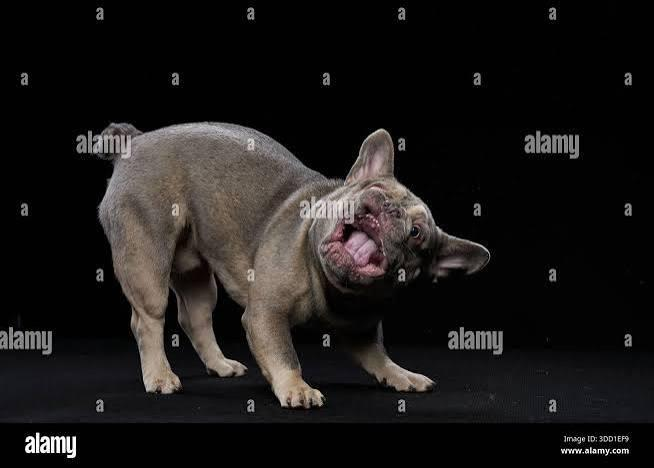adult_dog: (94, 115, 493, 411)
